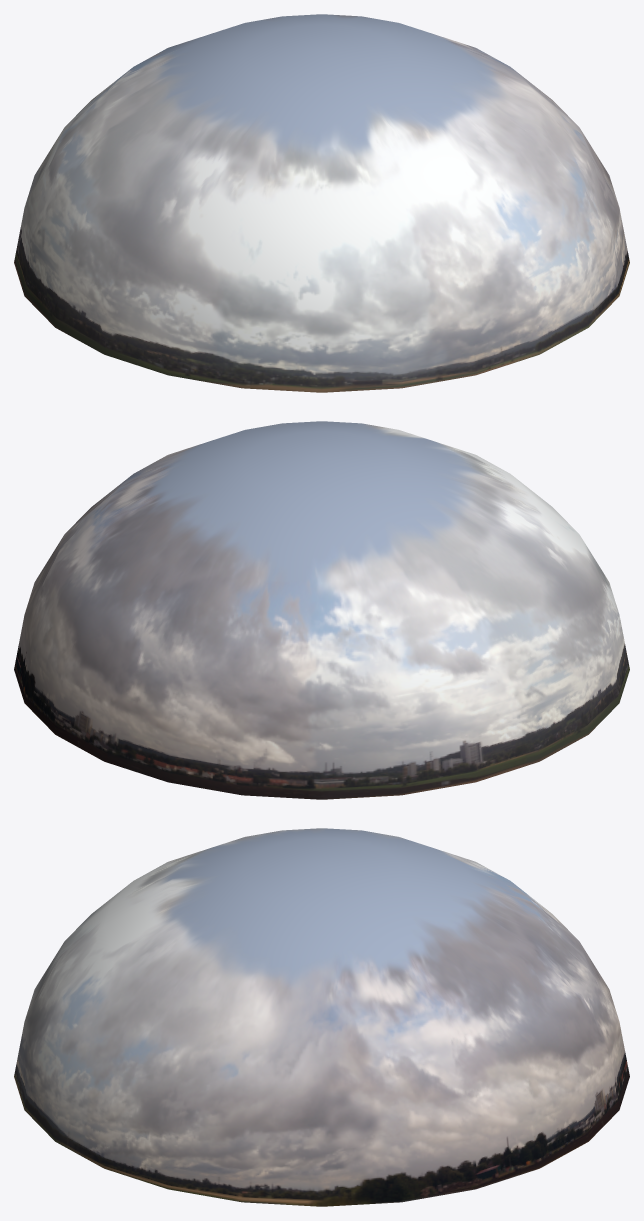
The model's file is sky.fbx.
The picture shows the model from 3 angles, top to bottom: view 1: azimuth 30°, elevation 25°; view 2: azimuth 150°, elevation 25°; view 3: azimuth 270°, elevation 25°; orthographic projection.
Visible parts, largest first — view 1: Mesh; view 2: Mesh; view 3: Mesh.
Boxes of the visible parts, x1=… form: Mesh: x1=14, y1=14, x2=629, y2=392; Mesh: x1=14, y1=421, x2=629, y2=799; Mesh: x1=14, y1=828, x2=629, y2=1206.
Bounding box in the file's own units: 29819 × 11310 × 29819.
